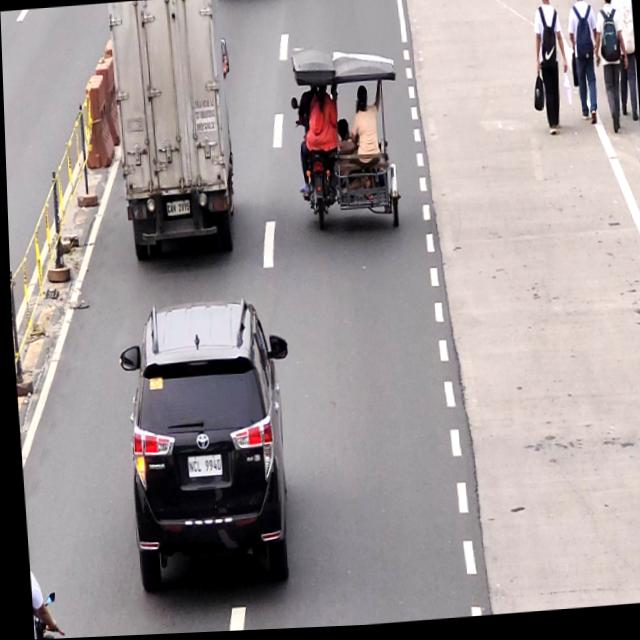Car: (119, 305, 295, 598)
License-Plate: (181, 456, 220, 479), (164, 200, 191, 220)
Tricycle: (290, 49, 401, 232)
Truck: (110, 0, 241, 264)
